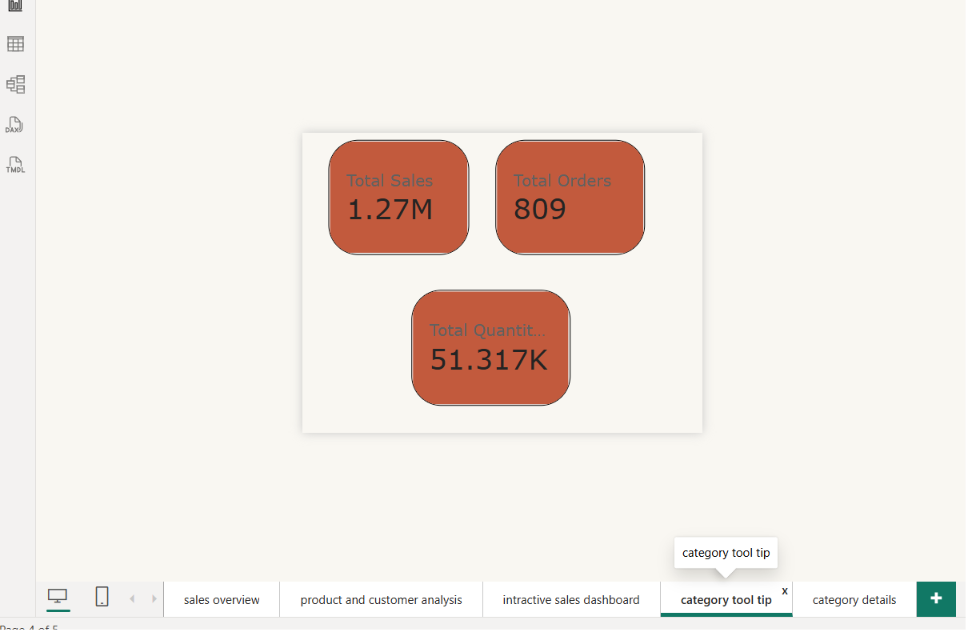

The dashboard page shown, as its layout file describes it:
{"tool":"powerbi","page":{"name":"category tool tip","canvas":[400,300],"ordinal":3},"visuals":[{"type":"cardVisual","fields":{"Data":["orders.Total Sales"]},"box":[26,7,141,115],"z":0},{"type":"cardVisual","fields":{"Data":["orders.Total Orders"]},"box":[193,7,150,115],"z":1000},{"type":"cardVisual","fields":{"Data":["Order Details.Total Quantity Sold"]},"box":[109,157,159,116],"z":2000}]}

Visuals, with their boxes on the page's 400x300 design canvas (x1, y1, x2, y2). These are canvas units, not pixel positions in the 966x630 screenshot, which may show the page scaled, cropped or inside an application window:
cardVisual - orders.Total Sales: left=26, top=7, right=167, bottom=122
cardVisual - orders.Total Orders: left=193, top=7, right=343, bottom=122
cardVisual - Order Details.Total Quantity Sold: left=109, top=157, right=268, bottom=273
